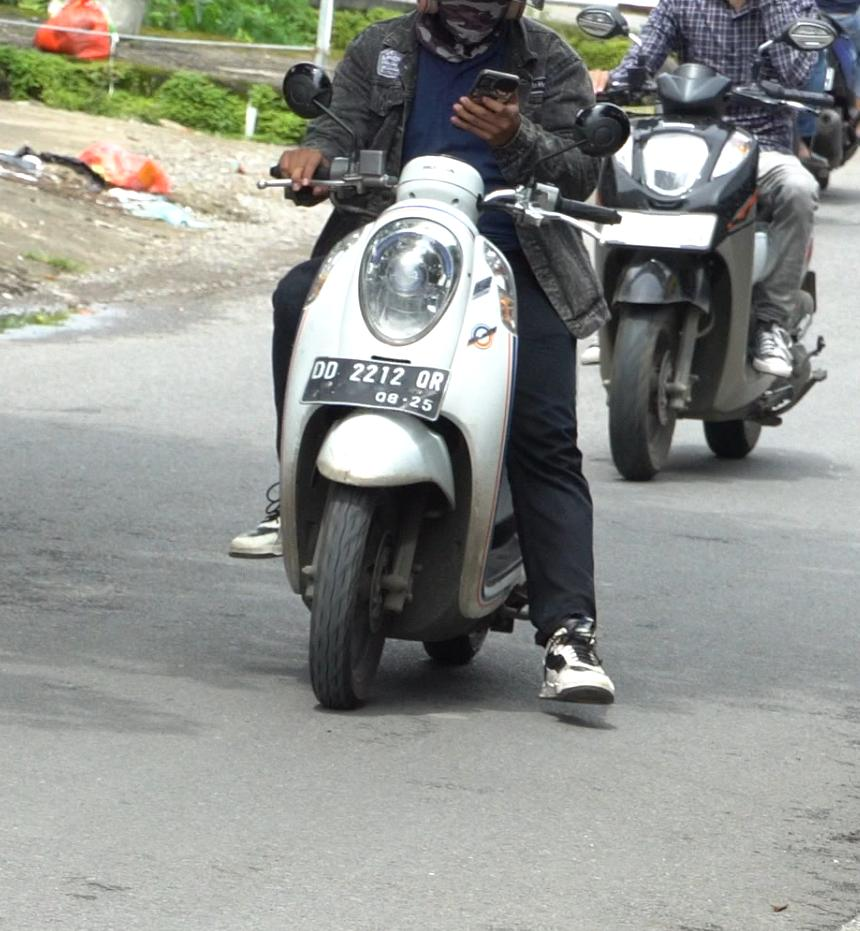number-plate: (303, 357, 454, 419)
